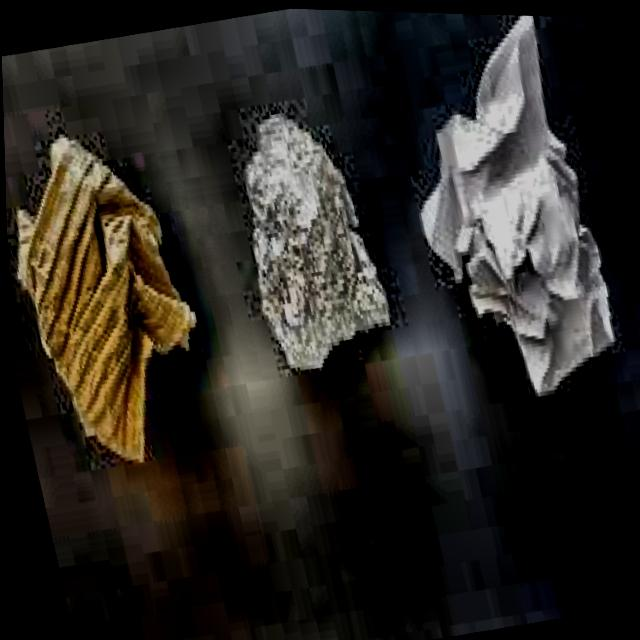Cardbox: (2, 97, 248, 525)
Foil: (203, 91, 410, 394)
Paper: (368, 9, 640, 436)
